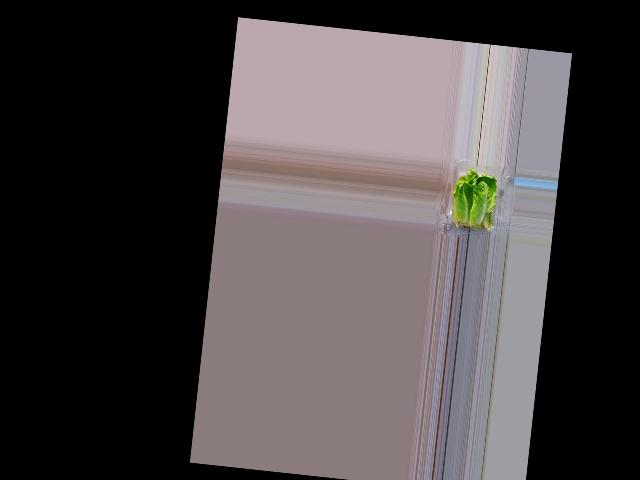lettuce: (450, 167, 499, 228)
